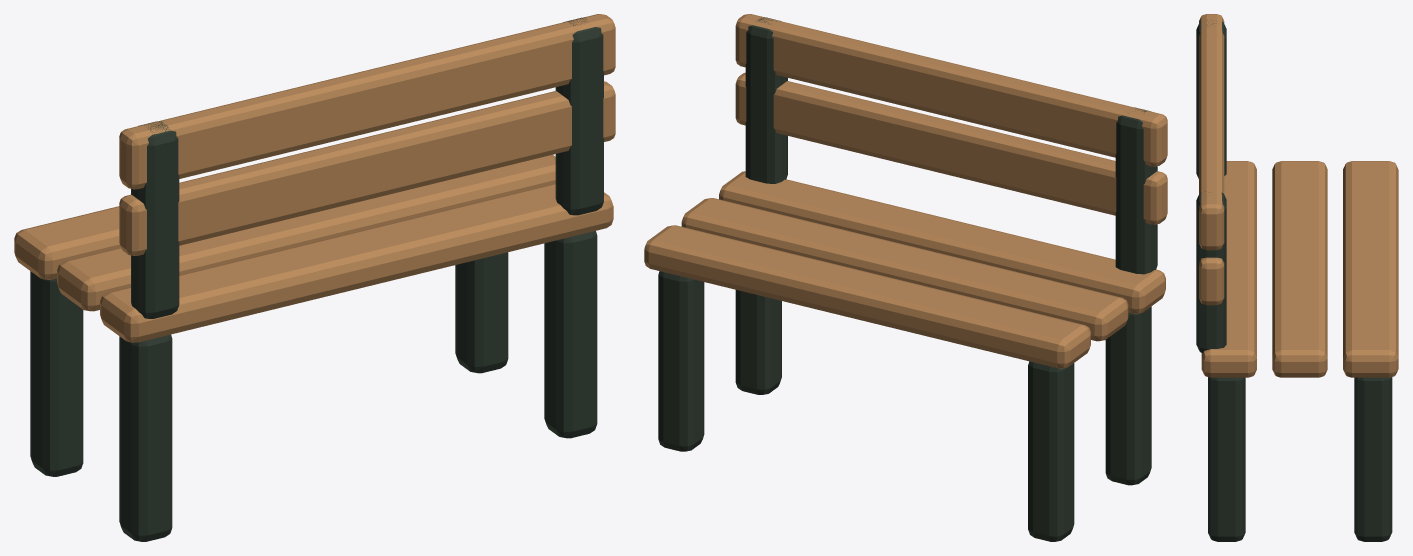
File: SM_Bench.fbx
3 views of the same model, side by side, from view 1: azimuth 30°, elevation 25°; view 2: azimuth 150°, elevation 25°; view 3: azimuth 270°, elevation 25° (orthographic). The views are drawn at different scales.
Visible parts, largest first — view 1: BenchMesh; view 2: BenchMesh; view 3: BenchMesh.
Boxes of the visible parts, bbox=[...] form: BenchMesh: bbox=[14, 14, 615, 541]; BenchMesh: bbox=[644, 14, 1167, 541]; BenchMesh: bbox=[1196, 14, 1398, 541].
Size of the model in its own units: 0.92 by 0.75 by 0.4.
